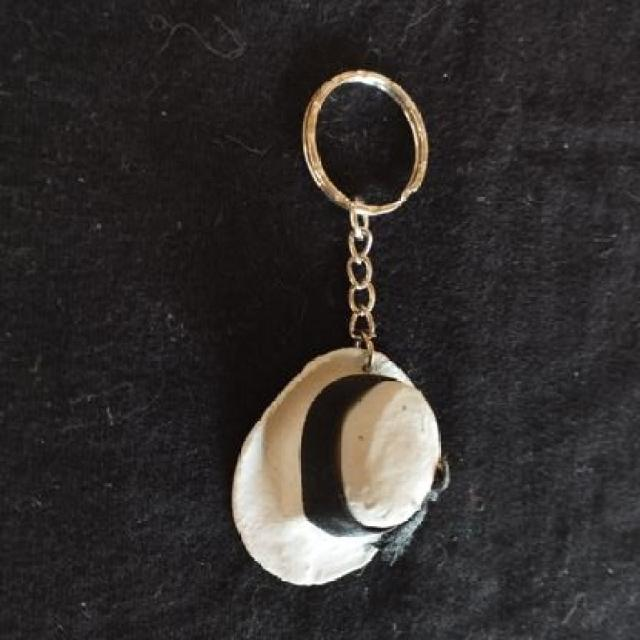Llavero: (229, 345, 446, 587)
